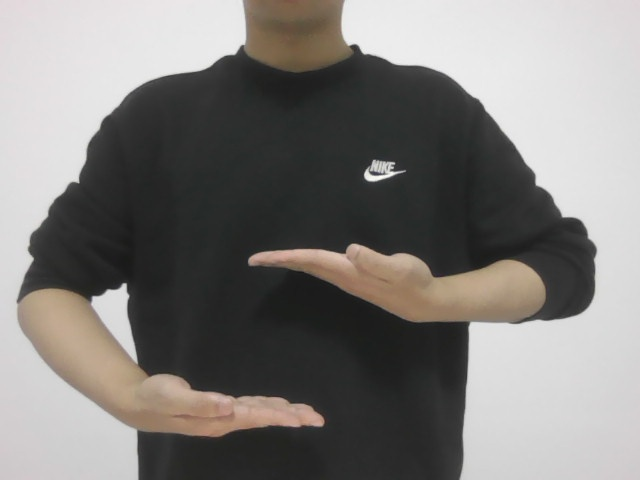happy: (131, 237, 441, 445)
